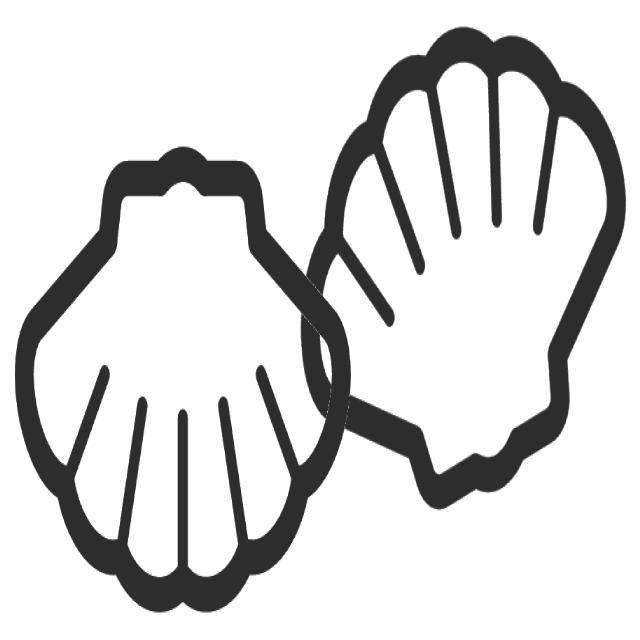shell: (299, 14, 634, 526), (10, 140, 358, 625)
